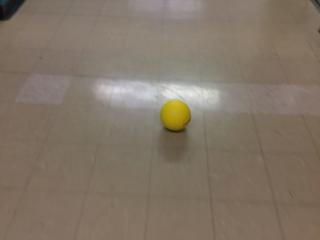power_cell: (161, 97, 191, 135)
